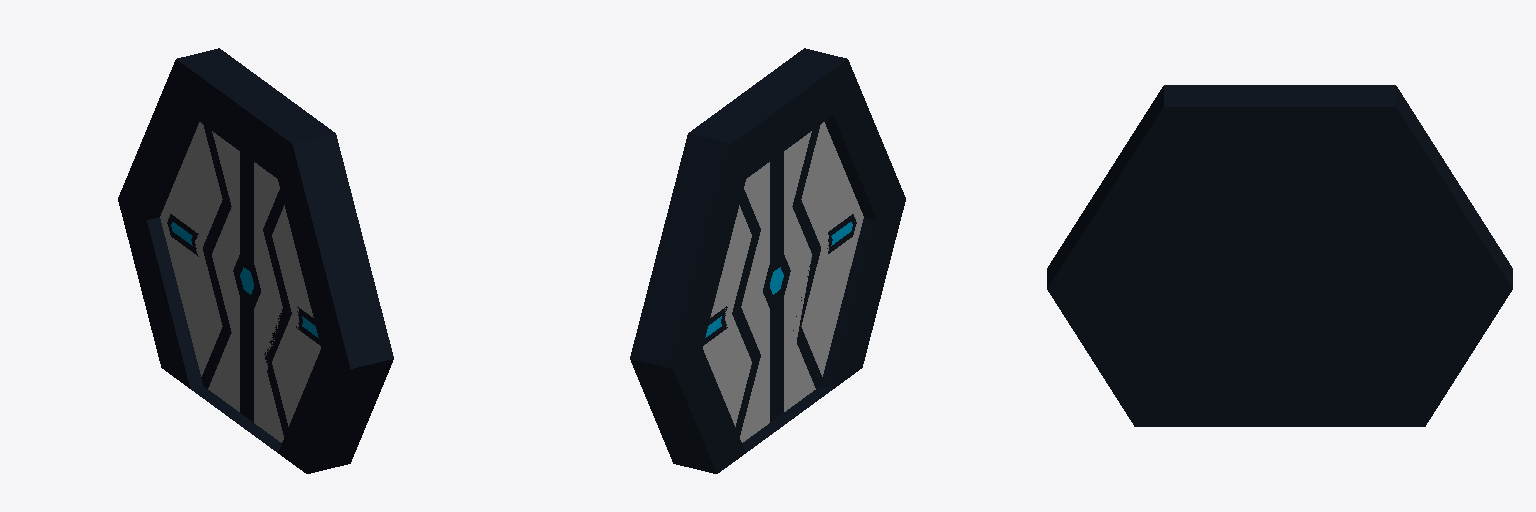
File: Door.obj
3 views of the same model, side by side, from view 1: azimuth 30°, elevation 25°; view 2: azimuth 150°, elevation 25°; view 3: azimuth 270°, elevation 25° (orthographic).
Parts seen in each view (by area): view 1: Circle; view 2: Circle; view 3: Circle.
Part boxes in pixels (bbox=[...]): Circle: bbox=[118, 48, 393, 473]; Circle: bbox=[630, 48, 905, 473]; Circle: bbox=[1047, 85, 1512, 426].
Bounding box in the file's own units: 1 × 7 × 9.24.